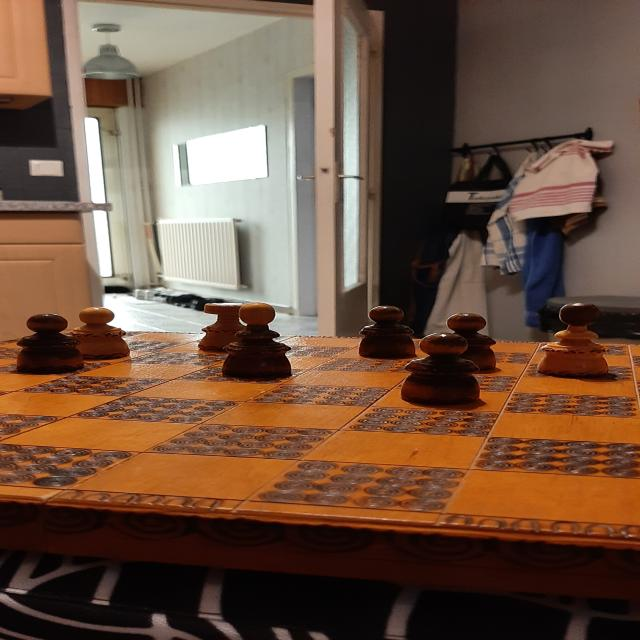black-bishop: (222, 302, 292, 378)
black-pawn: (401, 332, 480, 405), (16, 313, 84, 372), (358, 306, 416, 357), (446, 313, 496, 371)
white-bishop: (536, 303, 609, 377)
white-pawn: (69, 307, 130, 359)
white-rook: (198, 303, 246, 352)
